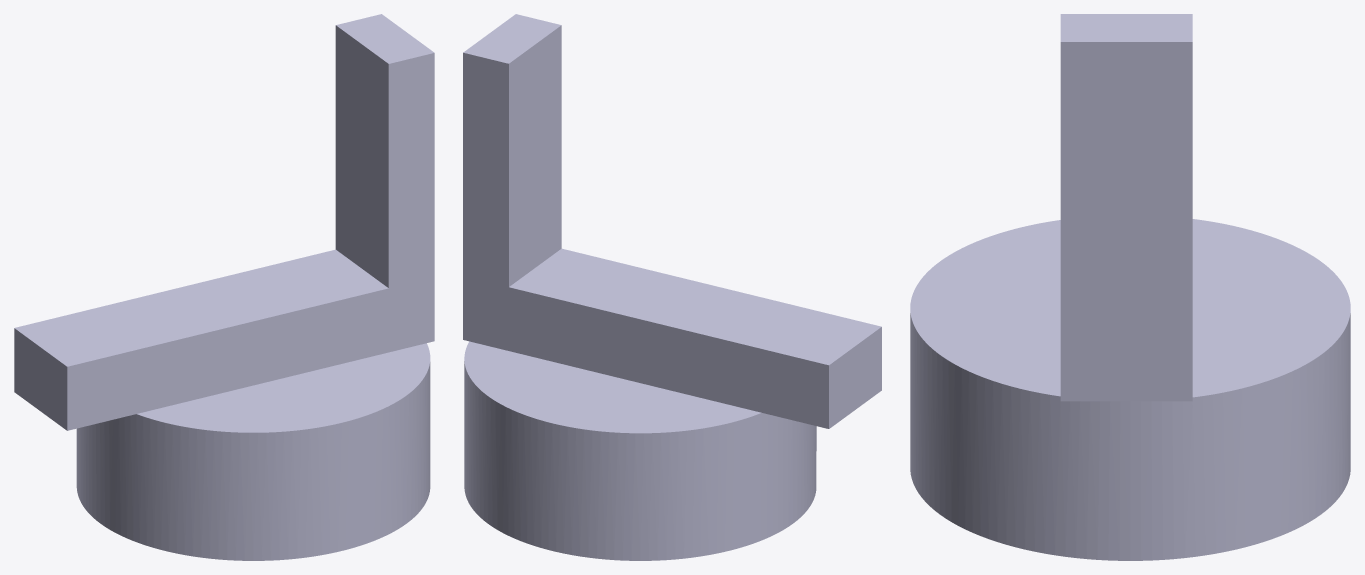
Rendered from my_robot_arm_end_effector_base_link_body.dae.
The picture shows the model from 3 angles, left to right: view 1: azimuth 30°, elevation 25°; view 2: azimuth 150°, elevation 25°; view 3: azimuth 270°, elevation 25°; orthographic projection. The views are drawn at different scales.
Visible parts, largest first — view 1: node0; view 2: node0; view 3: node0.
Boxes of the visible parts, x1,y1,x2,y2 form: node0: (14,14,434,560); node0: (463,14,881,560); node0: (910,14,1350,560).
Bounding box in the file's own units: 0.12 × 0.1 × 0.13.
